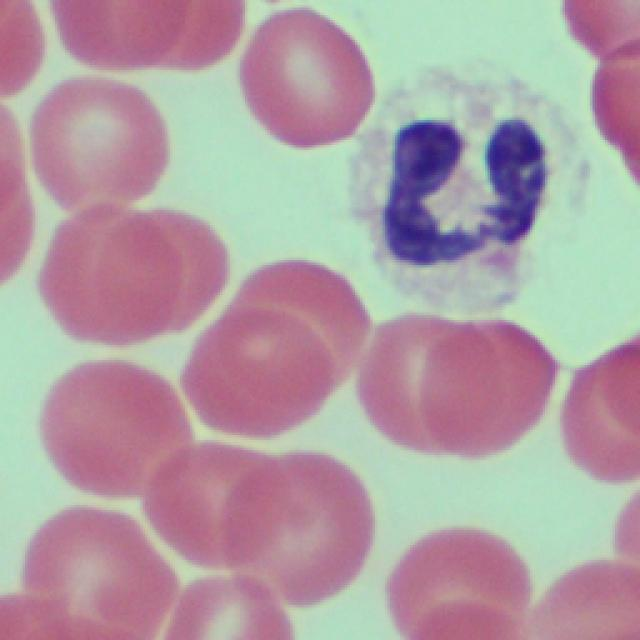RBC: (147, 437, 379, 611), (170, 254, 370, 441), (350, 311, 562, 463), (14, 497, 187, 640), (36, 346, 188, 501), (237, 0, 377, 145), (24, 72, 162, 218), (383, 517, 531, 640), (39, 207, 176, 332), (89, 210, 232, 317), (43, 0, 247, 75), (554, 323, 637, 486), (585, 25, 640, 193), (165, 572, 290, 640), (557, 0, 640, 47)
WBC: (359, 88, 564, 292)
